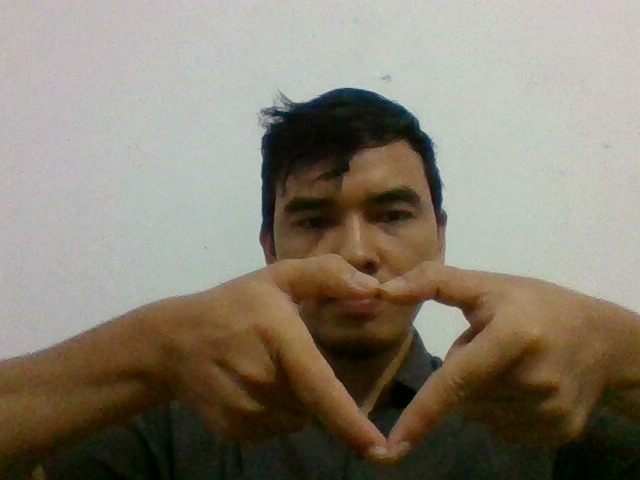iloveyou: (198, 246, 510, 472)
